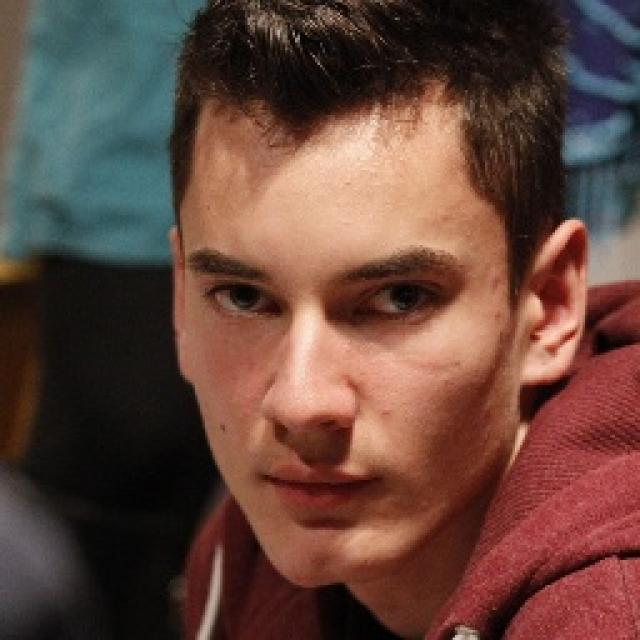earlobe: (522, 216, 590, 390), (166, 226, 194, 387)
